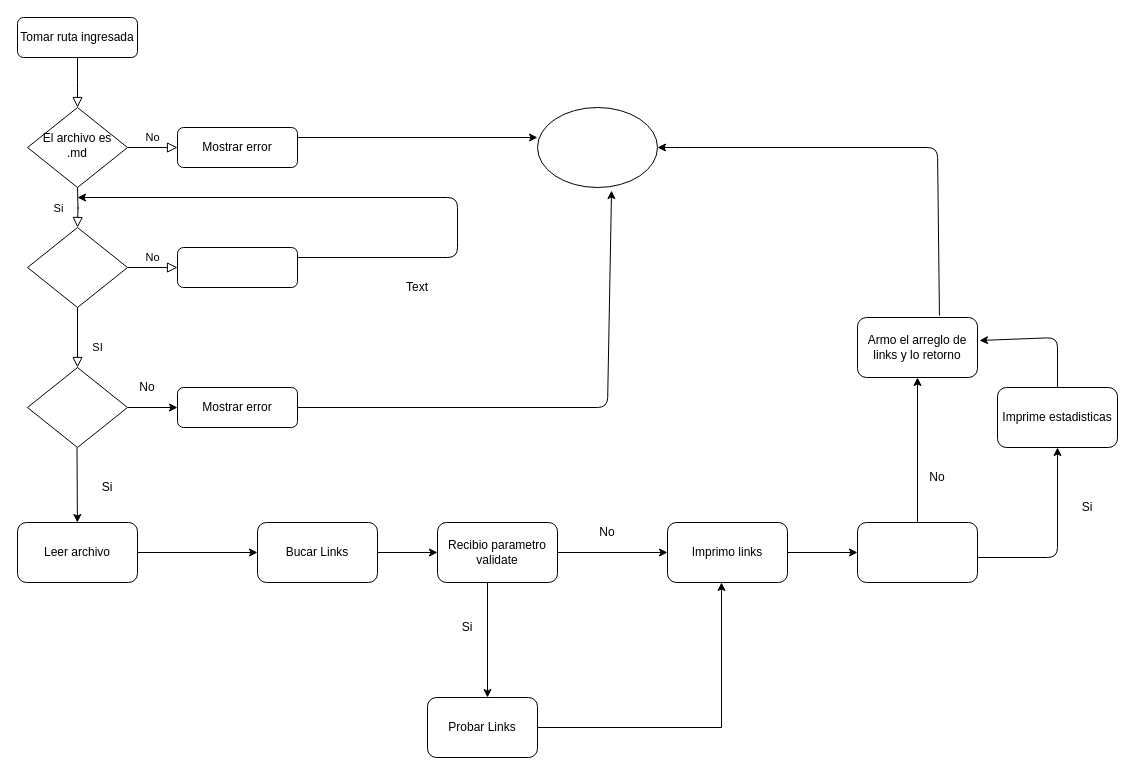
Image size: 1135x775. Some labels were removed from this diagram. Each missing label, with the centre of its shape:
"Convertir ruta a absoluta" belongs at (237,267).
"Fin" belongs at (597,147).
"La ruta me lleva a un archivo" belongs at (77,407).
"Recibo parametro stats" belongs at (917,552).
"Ruta es absoluta" belongs at (77,267).
